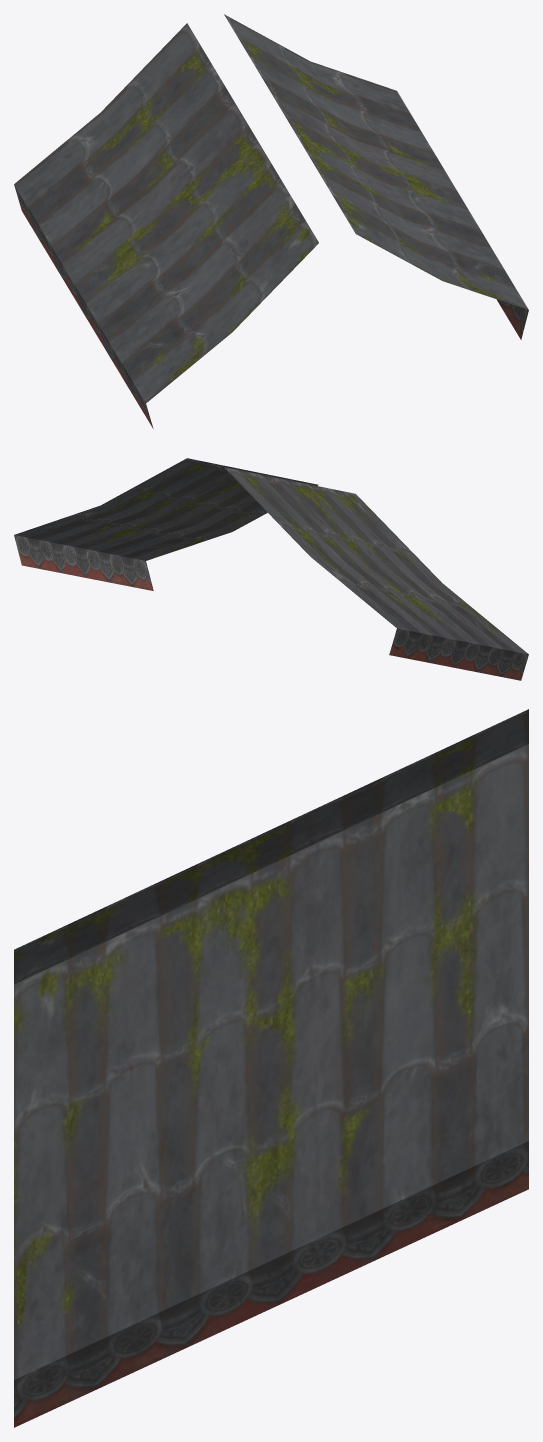
The model's file is b_zx_yuanmen02_02_lod1.FBX.
The picture shows the model from 3 angles, top to bottom: view 1: azimuth 30°, elevation 25°; view 2: azimuth 150°, elevation 25°; view 3: azimuth 270°, elevation 25°; orthographic projection. The views are drawn at different scales.
Visible parts, largest first — view 1: b_zx_yuanmen02_02_lod1; view 2: b_zx_yuanmen02_02_lod1; view 3: b_zx_yuanmen02_02_lod1.
Boxes of the visible parts, x1,y1,x2,y2 form: b_zx_yuanmen02_02_lod1: (14,14,528,428); b_zx_yuanmen02_02_lod1: (14,458,528,680); b_zx_yuanmen02_02_lod1: (14,709,528,1427).
Size of the model in its own units: 1.79 by 1.21 by 1.07.
